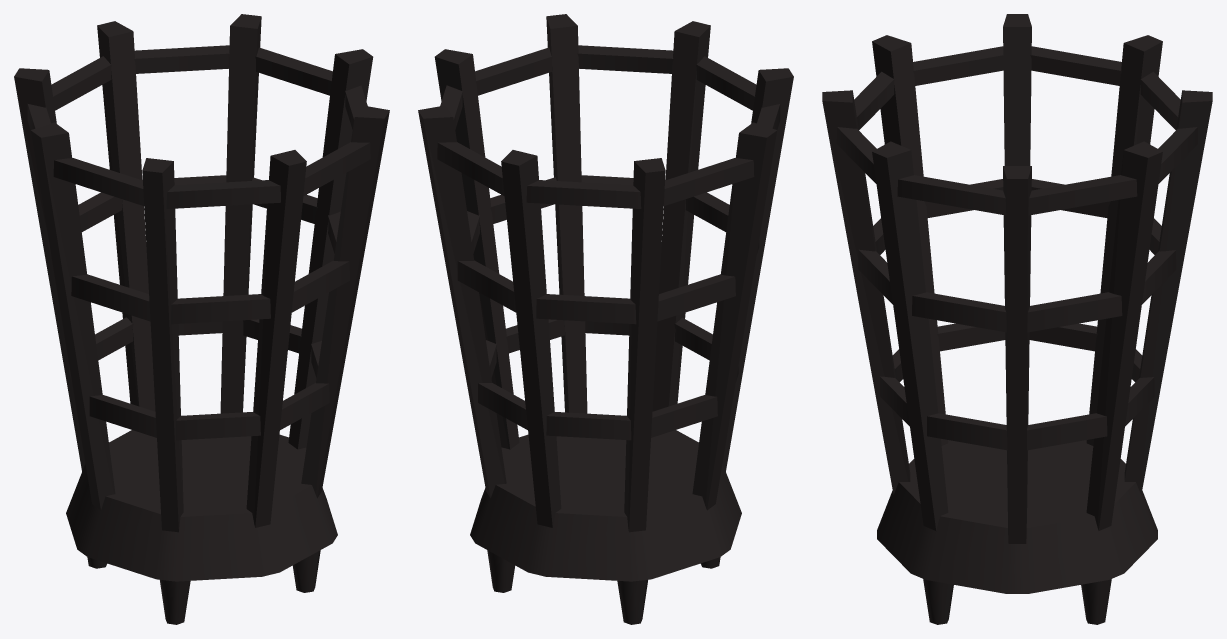
File: 36_prop_umbrella stand.FBX
The picture shows the model from 3 angles, left to right: view 1: azimuth 30°, elevation 25°; view 2: azimuth 150°, elevation 25°; view 3: azimuth 270°, elevation 25°; orthographic projection.
Visible parts, largest first — view 1: prop_umbrella stand; view 2: prop_umbrella stand; view 3: prop_umbrella stand.
Boxes of the visible parts, left/top/right/bottom form: prop_umbrella stand: left=14, top=14, right=389, bottom=624; prop_umbrella stand: left=418, top=14, right=793, bottom=624; prop_umbrella stand: left=822, top=14, right=1212, bottom=624.
Bounding box in the file's own units: 27.87 × 38.74 × 27.87.
